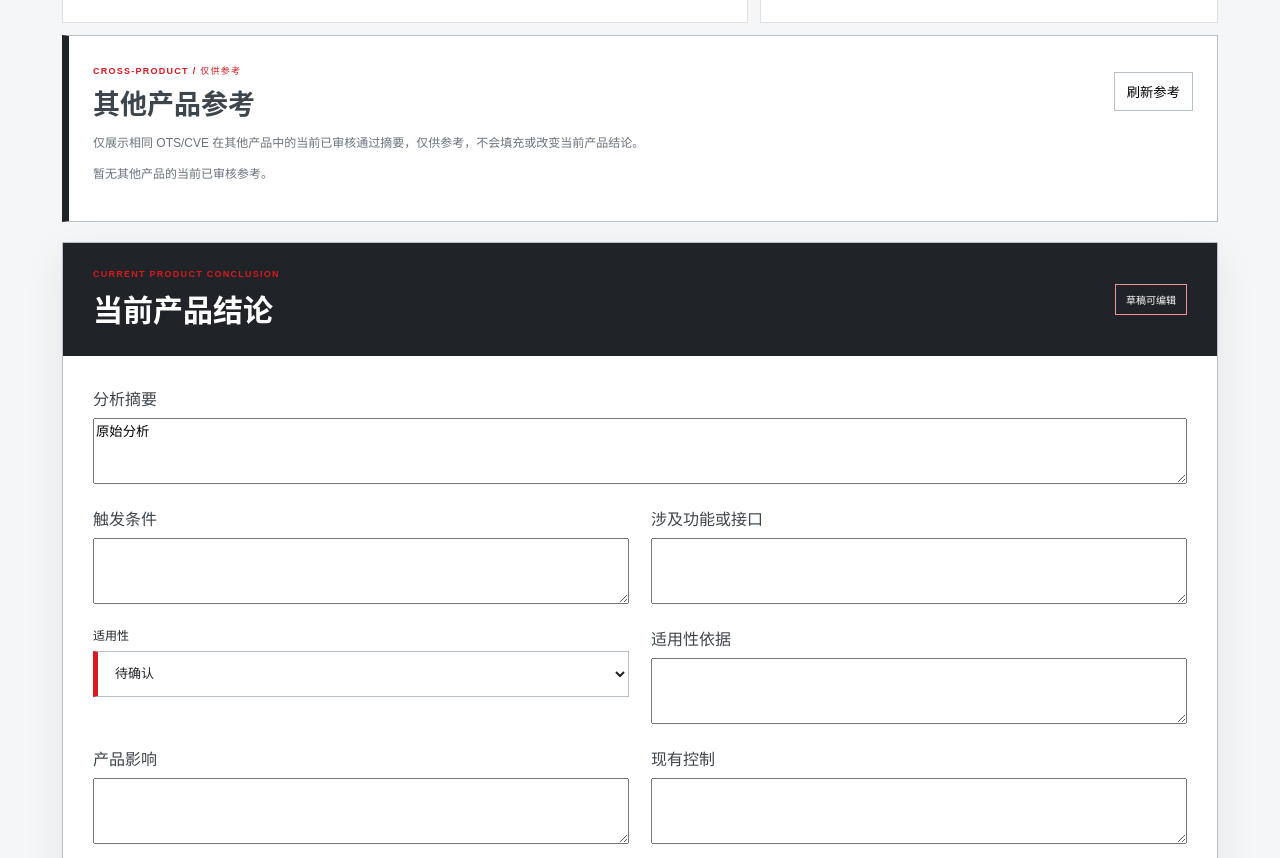
Test: AssessmentDetailPage › retains local input on version conflict and refreshes only on explicit action
This screenshot has width=1280, height=858.
(page scrolled)
Replace the text in the text box named "analysis_summary" with "本地未保存值" at (640, 451), box top-left (93, 418), bottom-right (1187, 484)
(page scrolled)
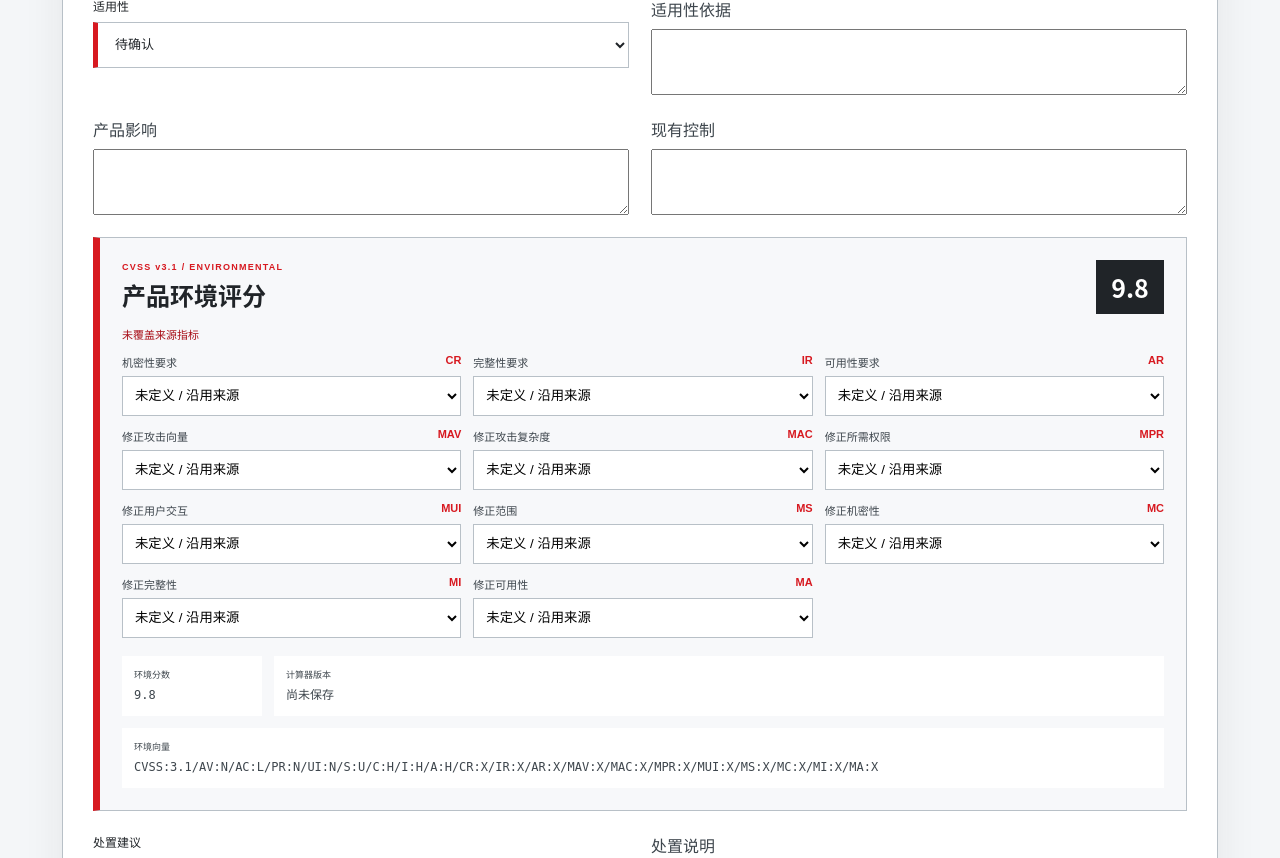
Submit the form
(page scrolled)
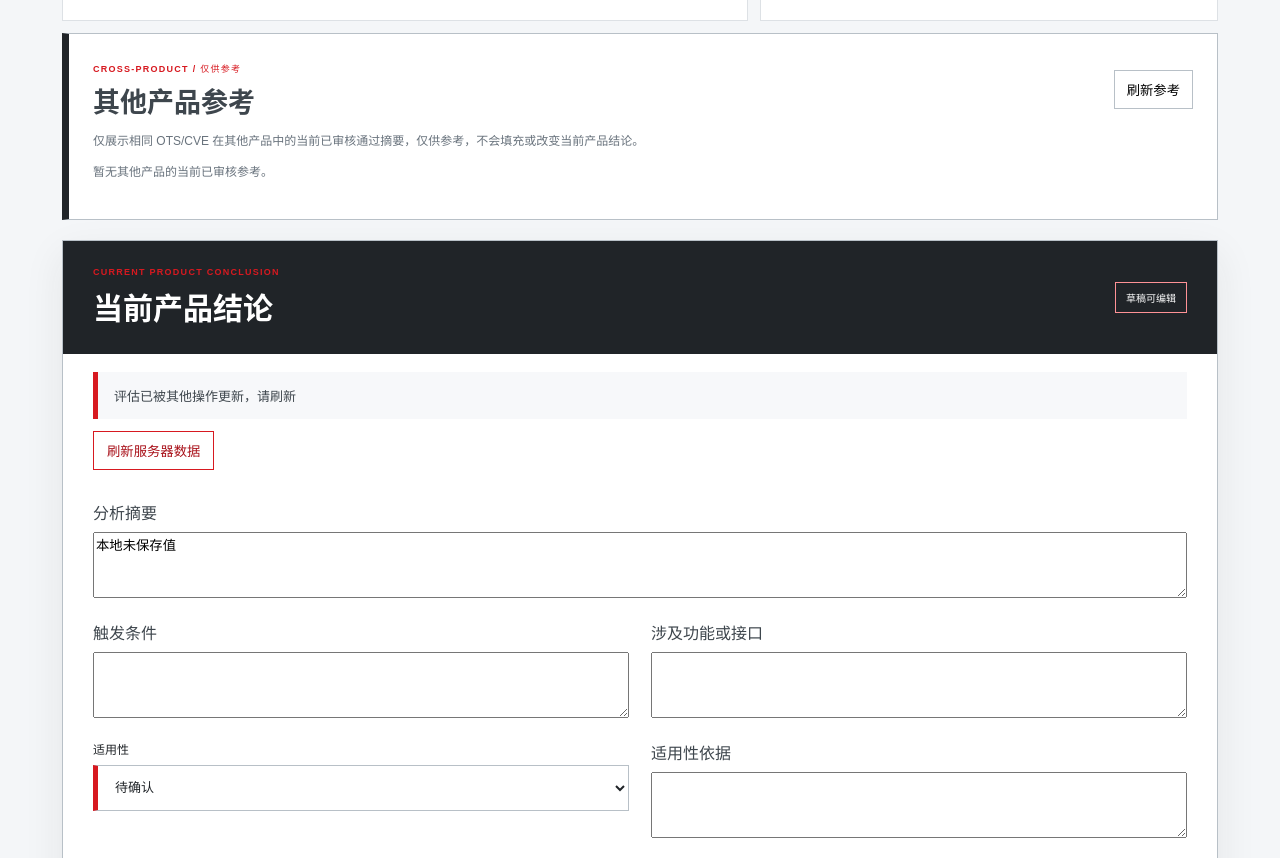
expect the text "评估已被其他操作更新，请刷新" is shown: met, box top-left (93, 372), bottom-right (1187, 419)
Click the button "刷新服务器数据" at (154, 450), box top-left (93, 431), bottom-right (214, 470)
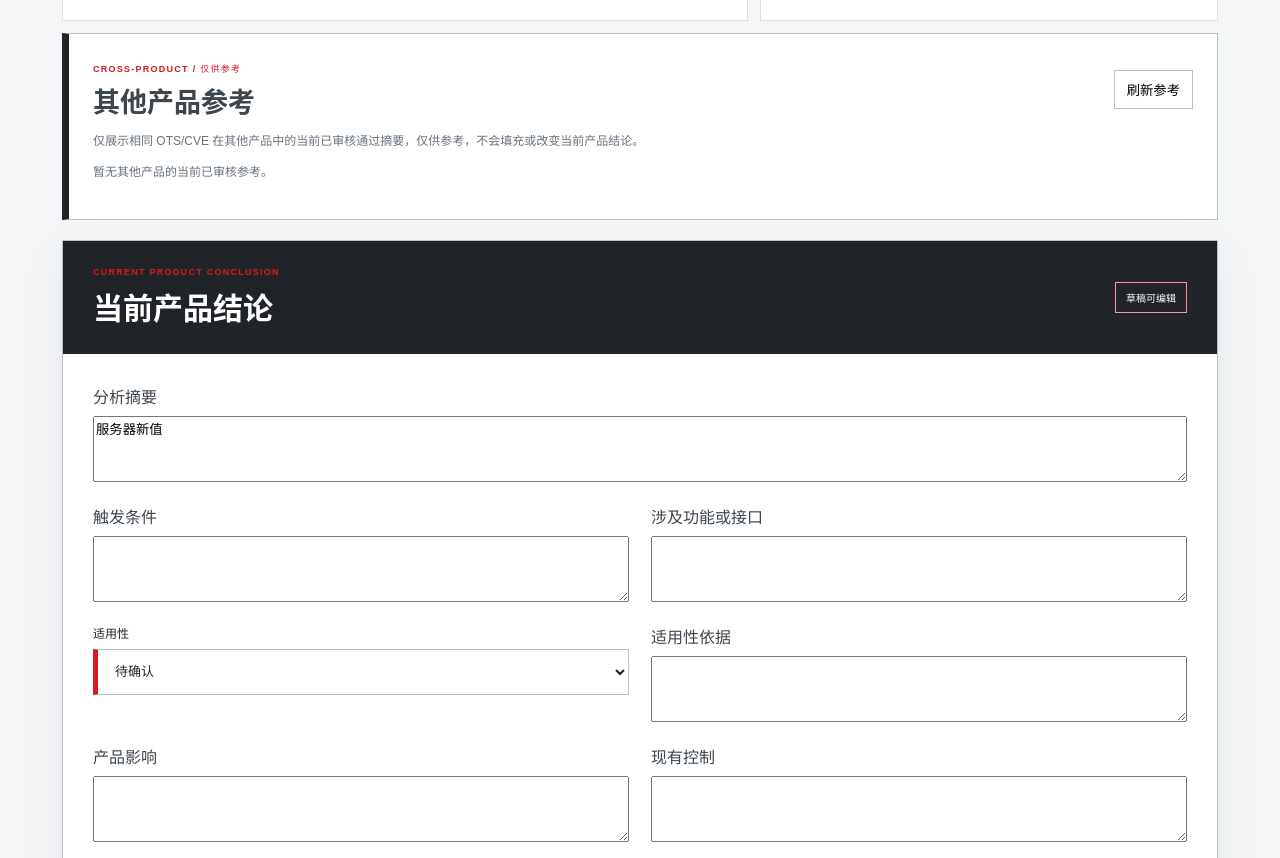
expect the text box named "analysis_summary" holds "服务器新值": met, box top-left (93, 416), bottom-right (1187, 482)
